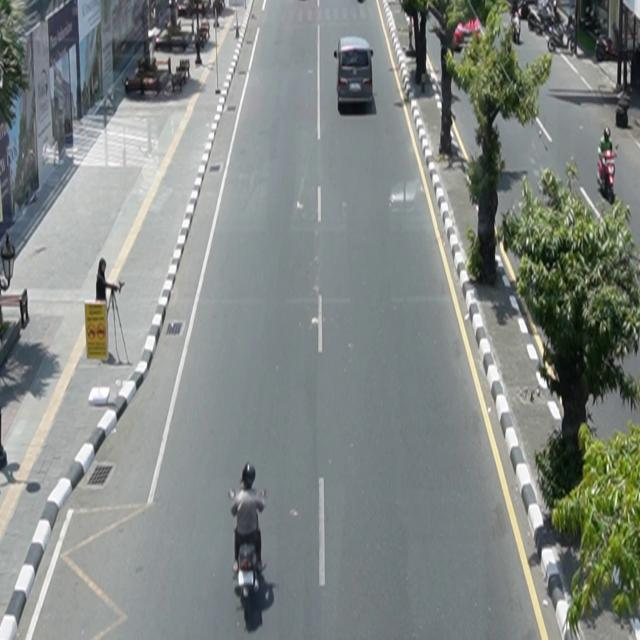car: (334, 36, 375, 109)
